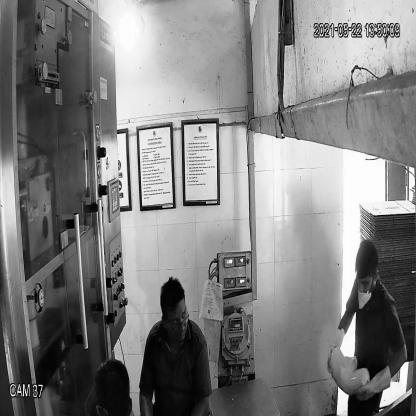goggles: (159, 307, 191, 334)
